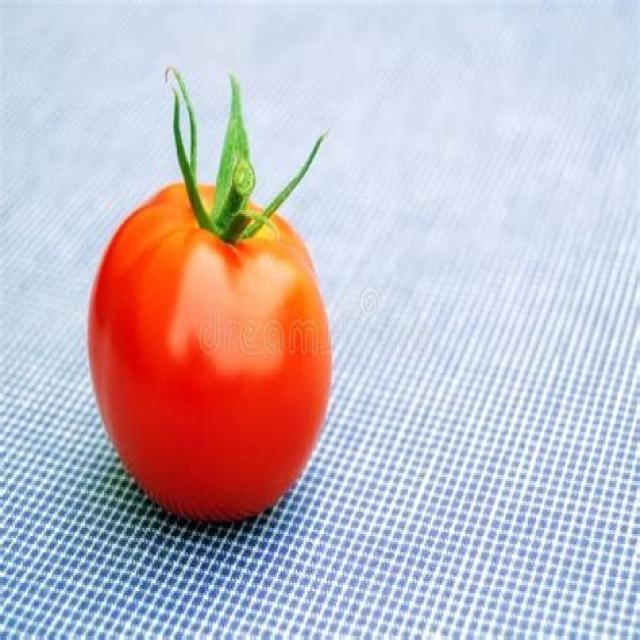Tomato: (87, 181, 335, 520)
